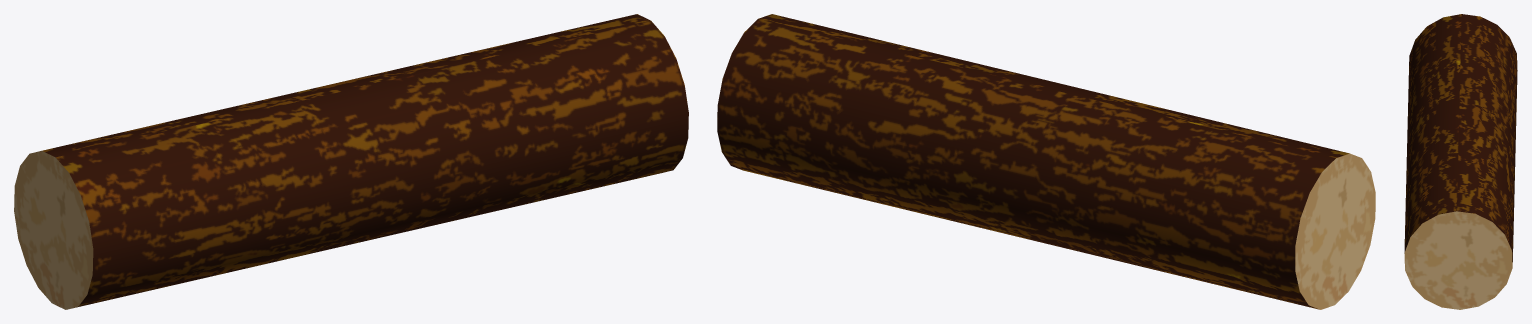
The model's file is Trunk.FBX.
3 views of the same model, side by side, from view 1: azimuth 30°, elevation 25°; view 2: azimuth 150°, elevation 25°; view 3: azimuth 270°, elevation 25° (orthographic). The views are drawn at different scales.
Parts seen in each view (by area): view 1: Trunk; view 2: Trunk; view 3: Trunk.
Part boxes in pixels (bbox=[...]): Trunk: bbox=[14, 14, 688, 309]; Trunk: bbox=[717, 14, 1375, 309]; Trunk: bbox=[1404, 14, 1517, 309].
Size of the model in its own units: 20.6 by 5.06 by 5.06.
